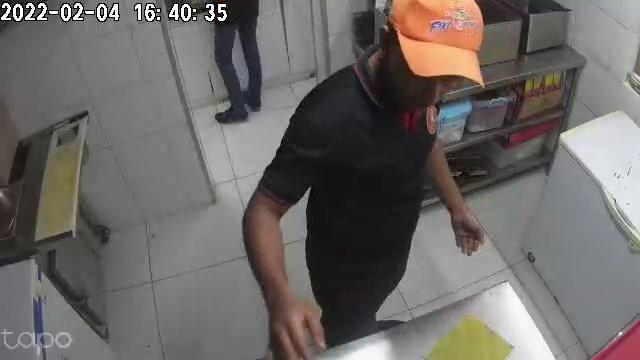no_gloves: (451, 198, 485, 256)
